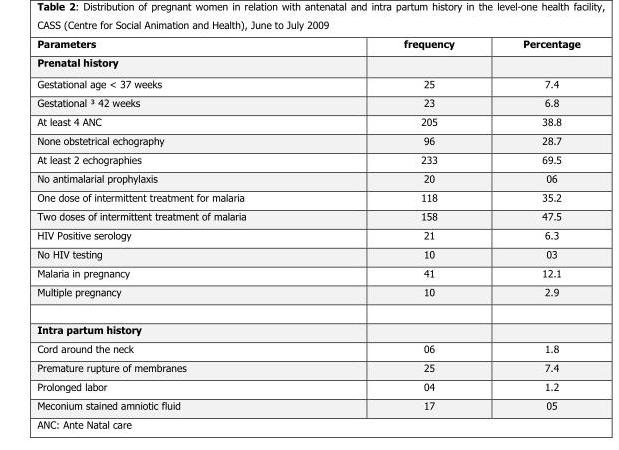table: (36, 36, 579, 410)
table column: (36, 36, 324, 410), (324, 36, 488, 410), (488, 36, 579, 410)
table column header: (36, 36, 579, 52)
table projected row header: (36, 310, 579, 338), (36, 52, 579, 72)
table row: (36, 281, 579, 310), (36, 310, 579, 338), (36, 52, 579, 72), (36, 72, 579, 92), (36, 92, 579, 111), (36, 111, 579, 130), (36, 130, 579, 149), (36, 149, 579, 168), (36, 168, 579, 187), (36, 187, 579, 206), (36, 206, 579, 225), (36, 243, 579, 262), (36, 262, 579, 281), (36, 338, 579, 357), (36, 357, 579, 376), (36, 376, 579, 395), (36, 225, 579, 243), (36, 36, 579, 52), (36, 395, 579, 410)
